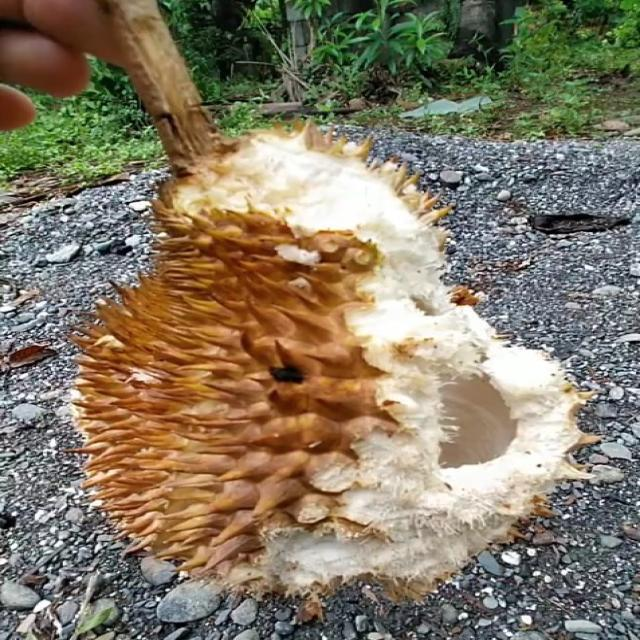defective: (63, 105, 597, 610)
